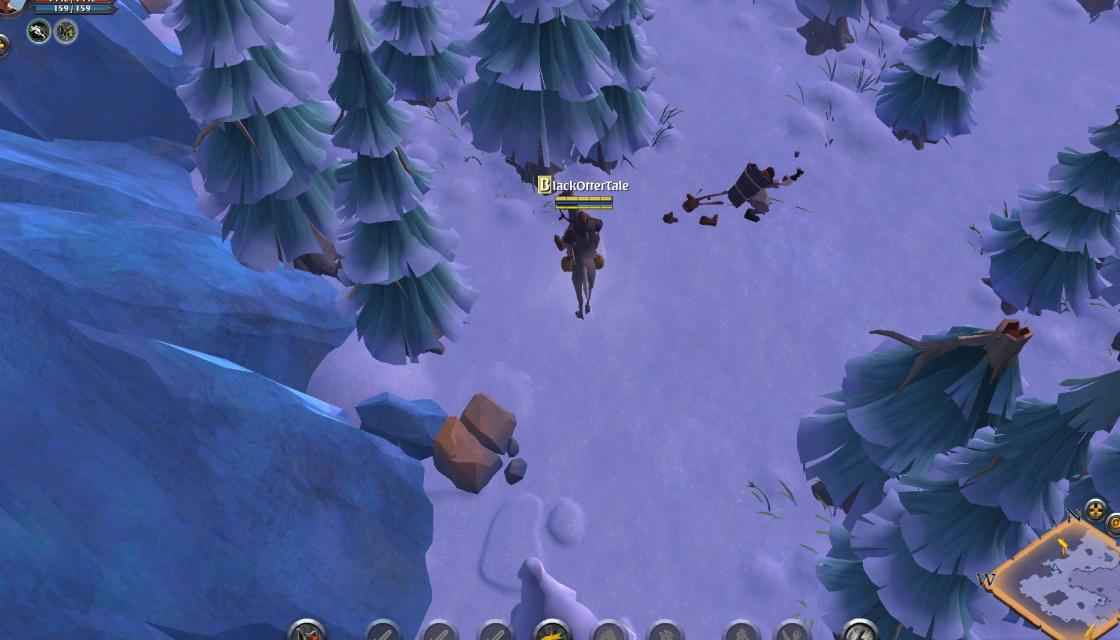limestone: (432, 388, 524, 494)
